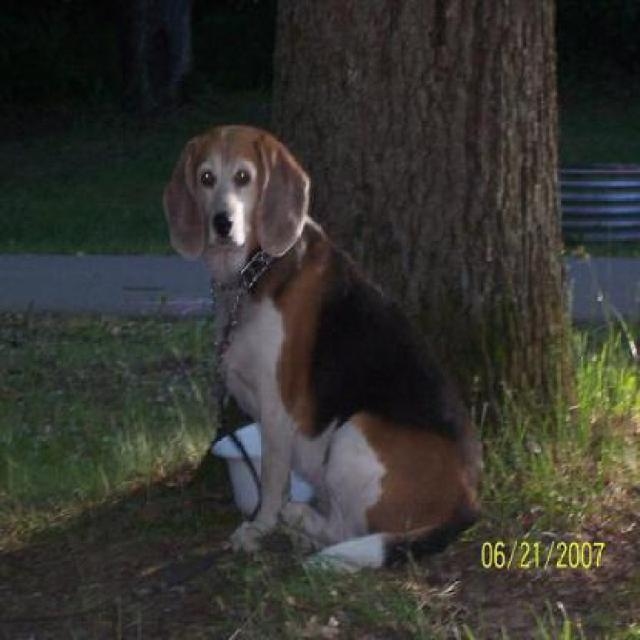Dog: (158, 124, 482, 574)
